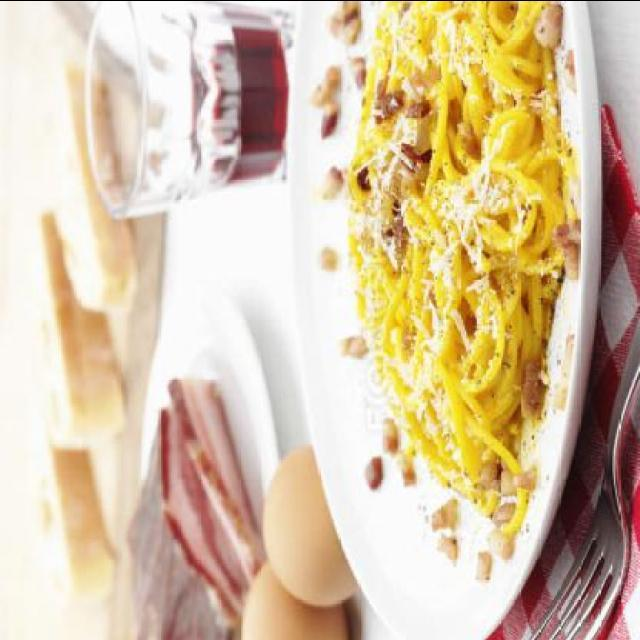Pasta with carbonara sauce: (274, 1, 600, 616)
